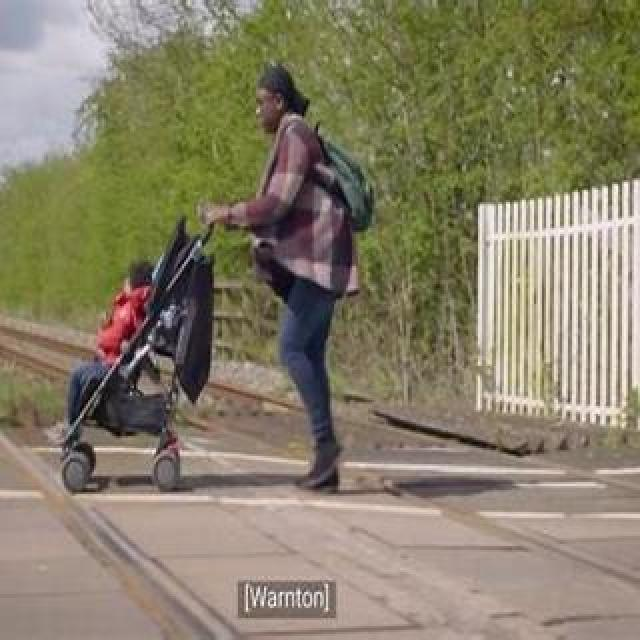people: (224, 59, 374, 489), (85, 261, 159, 377)
